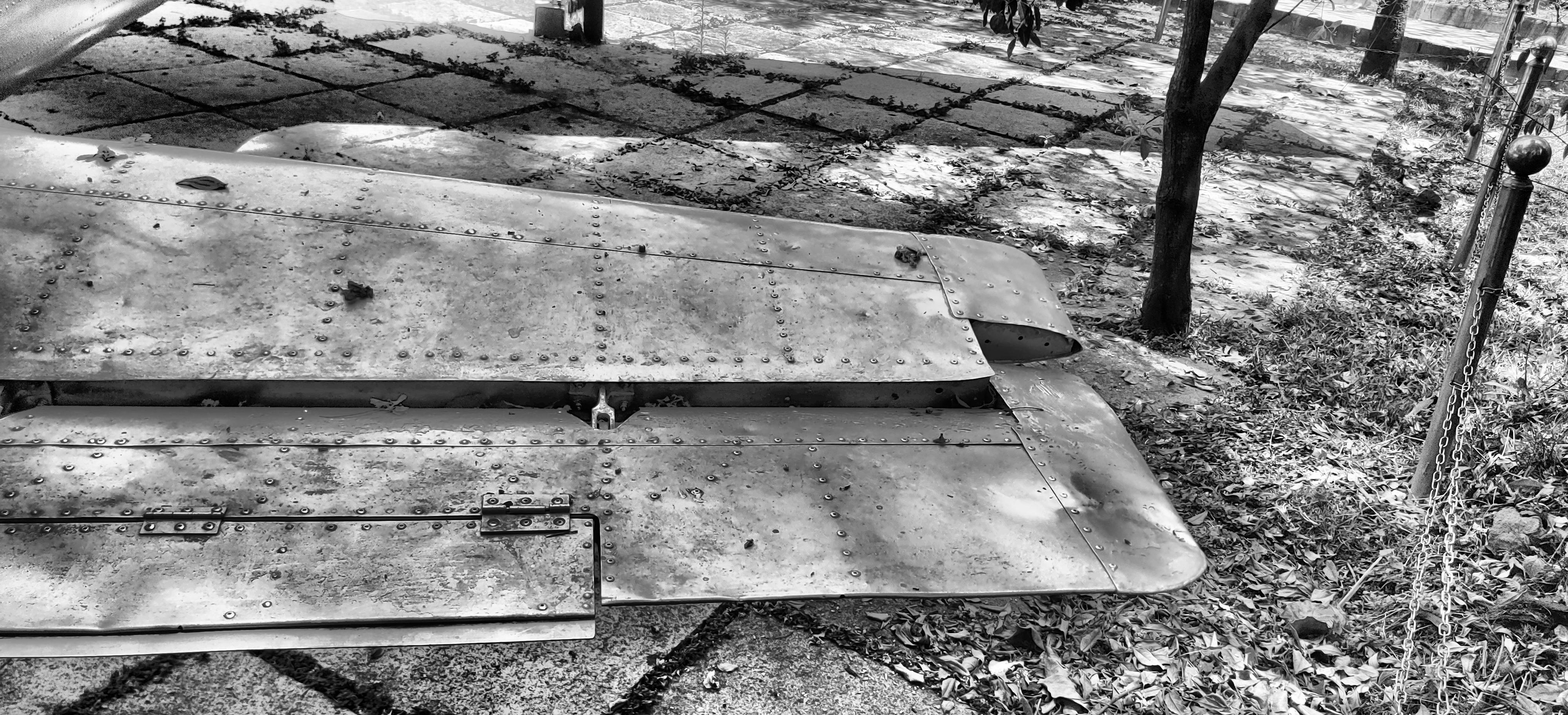dent: (1138, 509, 1199, 550)
missing-head: (160, 439, 166, 443)
scratch: (1041, 384, 1053, 396), (1034, 384, 1045, 393)
